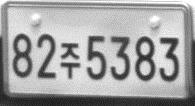2: (36, 33, 57, 79)
3: (109, 35, 131, 81), (159, 37, 179, 83)
5: (85, 35, 107, 80)
8: (11, 32, 33, 78), (134, 35, 155, 82)
주: (60, 42, 80, 79)
